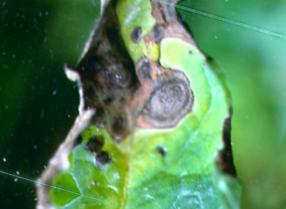Tomato Early blight leaf: (31, 0, 286, 209)
